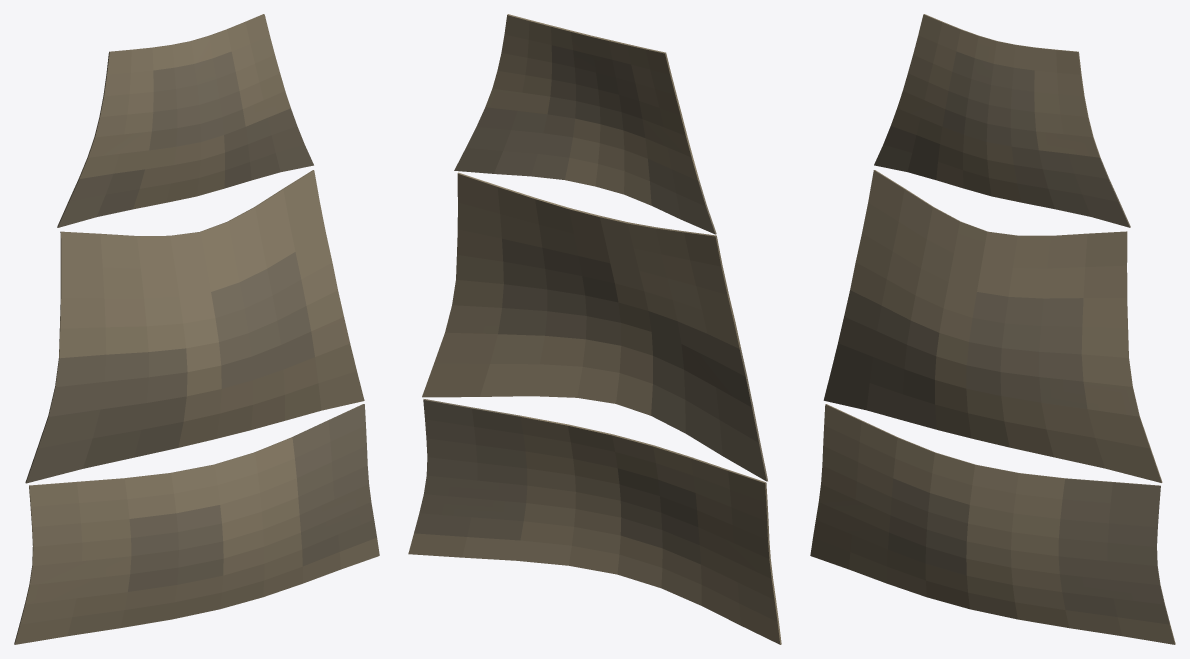
The model's file is LargeShip_2_Sails1.fbx.
3 views of the same model, side by side, from view 1: azimuth 30°, elevation 25°; view 2: azimuth 150°, elevation 25°; view 3: azimuth 330°, elevation 25° (orthographic). The views are drawn at different scales.
Parts seen in each view (by area): view 1: LargeShip_2_Sails1; view 2: LargeShip_2_Sails1; view 3: LargeShip_2_Sails1.
Part boxes in pixels (<box>): LargeShip_2_Sails1: <box>14,14,379,644</box>; LargeShip_2_Sails1: <box>408,14,781,644</box>; LargeShip_2_Sails1: <box>810,14,1175,644</box>.
Bounding box in the file's own units: 1508 × 2213 × 269.
